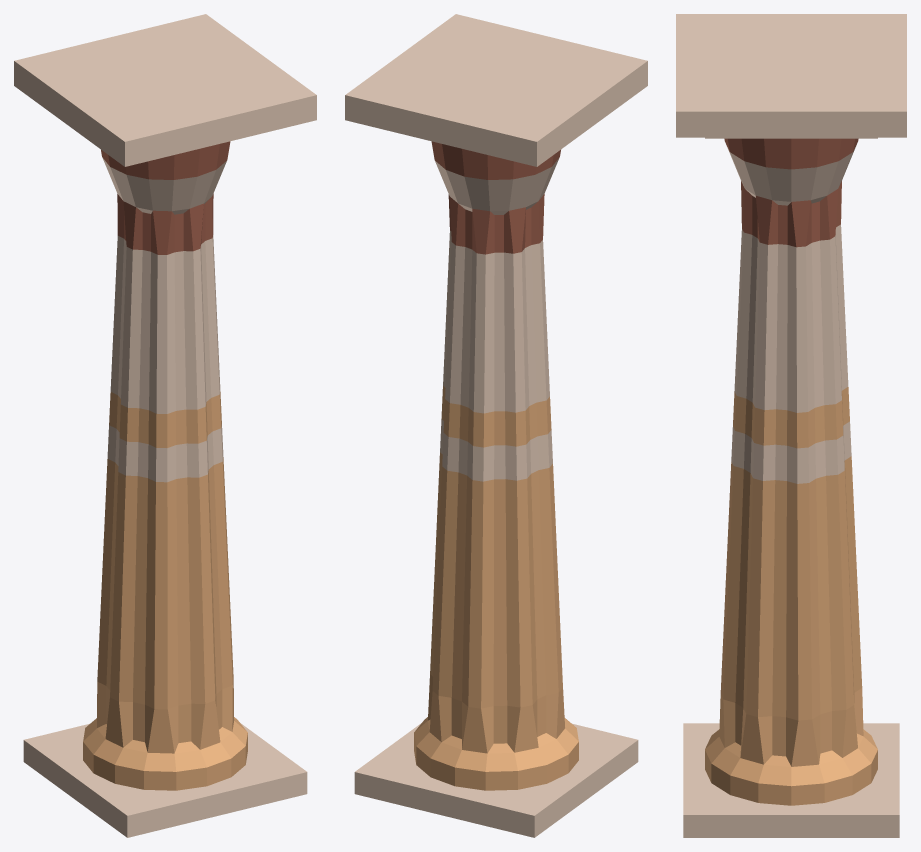
File: Column.fbx
3 renders of one model, left to right at view 1: azimuth 30°, elevation 25°; view 2: azimuth 150°, elevation 25°; view 3: azimuth 270°, elevation 25°, orthographic. The views are drawn at different scales.
Parts seen in each view (by area): view 1: Cylinder; view 2: Cylinder; view 3: Cylinder.
Part boxes in pixels (box(x1,y1,x2,y2)): Cylinder: box(14, 14, 316, 837); Cylinder: box(345, 14, 647, 837); Cylinder: box(676, 14, 906, 837).
Bounding box in the file's own units: 160 × 558 × 160.
